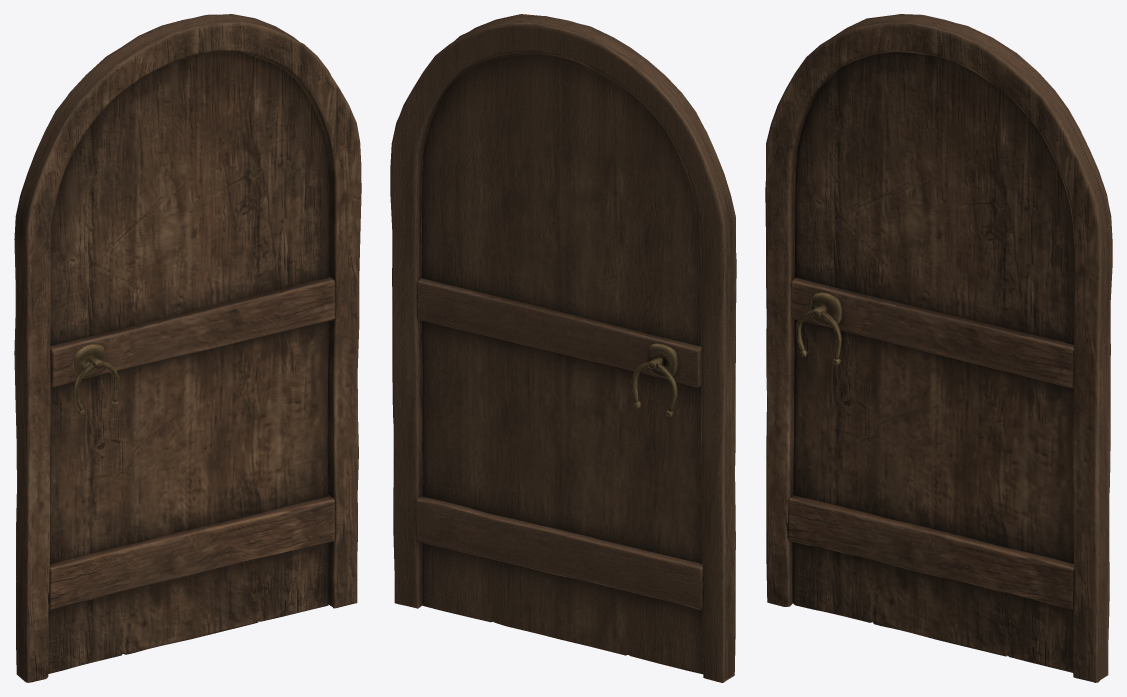
Rendered from Meshy_AI_a_saloon_door_0904015148_texture.glb.
3 renders of one model, left to right at view 1: azimuth 30°, elevation 25°; view 2: azimuth 150°, elevation 25°; view 3: azimuth 330°, elevation 25°, orthographic.
Visible parts, largest first — view 1: mesh_node; view 2: mesh_node; view 3: mesh_node.
Part boxes in pixels (x1,y1,x2,y2): mesh_node: (14, 14, 361, 682); mesh_node: (390, 14, 736, 682); mesh_node: (765, 14, 1112, 682).
Bounding box in the file's own units: 0.5723 × 1 × 0.1018.
1 material, 1 textured.
